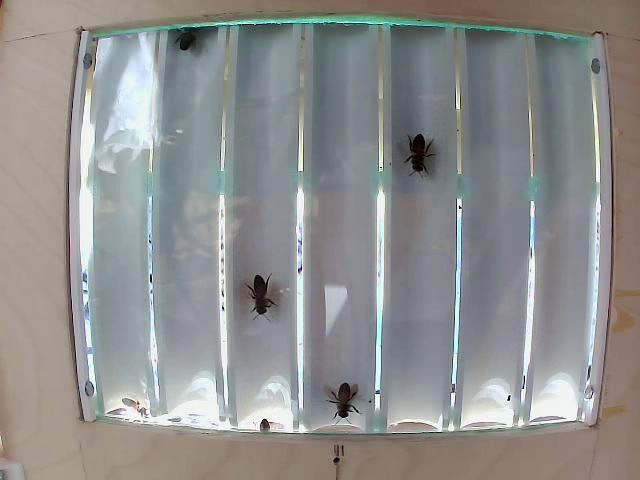bee: (392, 120, 456, 188), (246, 258, 285, 331), (328, 366, 359, 417)
